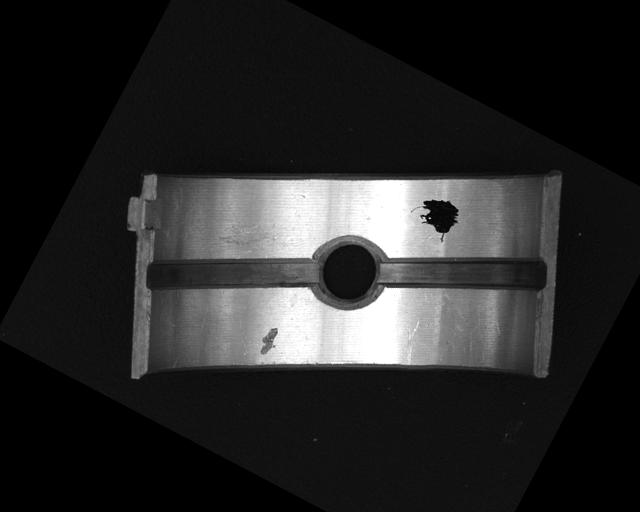blot: (404, 186, 467, 245)
bruise: (254, 321, 284, 359)
gap: (145, 196, 321, 351), (377, 194, 552, 345)
hole: (299, 221, 398, 320)
nick: (391, 317, 430, 366)
scratch: (209, 200, 286, 268)
